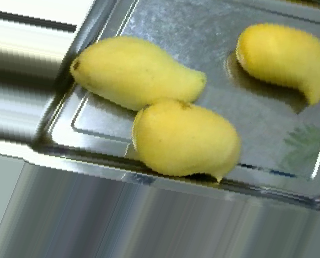Mango: (73, 31, 210, 110), (129, 97, 237, 184), (238, 19, 320, 105)
